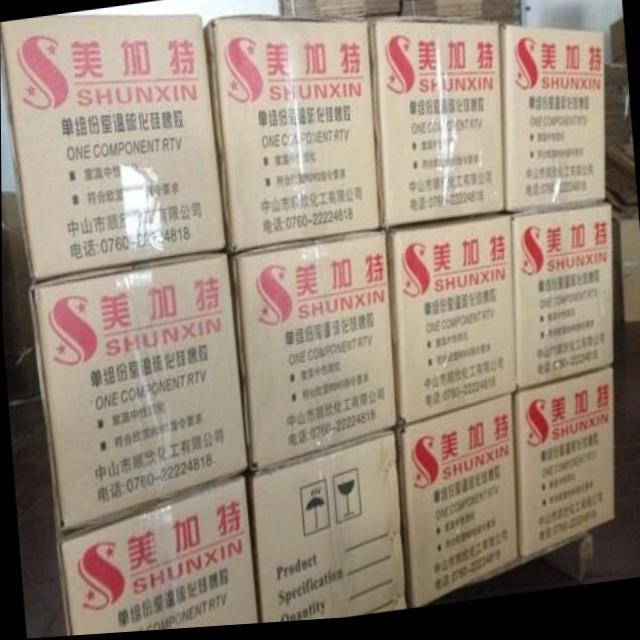box: (0, 15, 225, 289), (28, 253, 246, 528), (202, 18, 377, 259), (227, 235, 393, 476), (55, 476, 257, 637), (250, 434, 405, 626), (368, 26, 504, 234), (385, 222, 517, 434), (395, 403, 518, 613), (497, 29, 603, 220), (512, 375, 613, 569), (508, 212, 612, 395), (611, 226, 640, 331)
